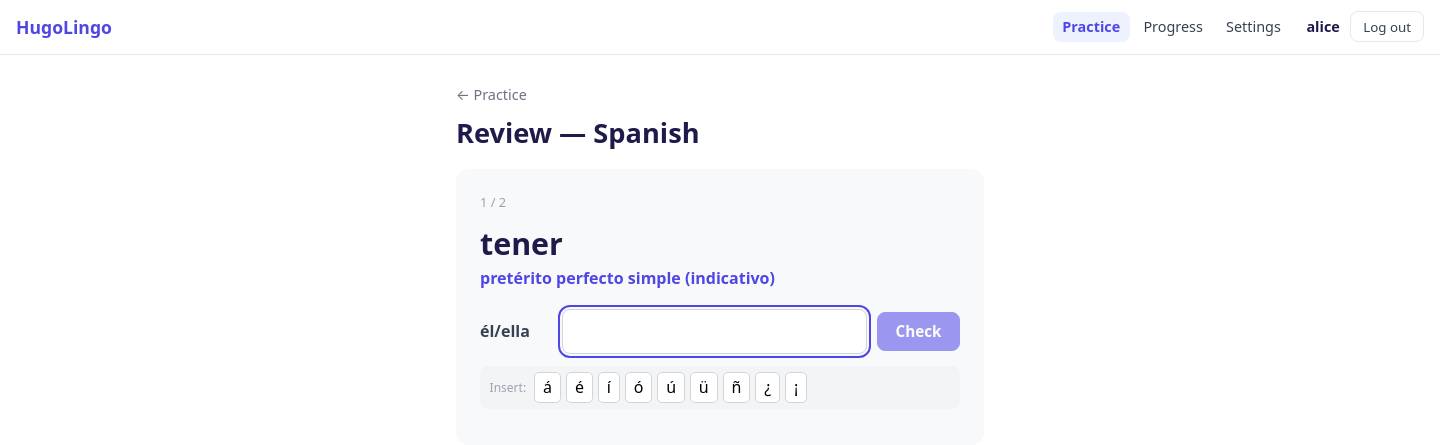
Test: review drill › grades each answer on the server and summarises the round, all from the keyboard
Check: the text "1 / 2" is shown, box x1=480 y1=193 x2=506 y2=211
Check: the text "pretérito perfecto simple (indicativo)" is shown, box x1=480 y1=267 x2=775 y2=289
In the field labelled "él/ella": point(714, 332) x1=562 y1=309 x2=867 y2=354, type "tenió"
Then press Enter
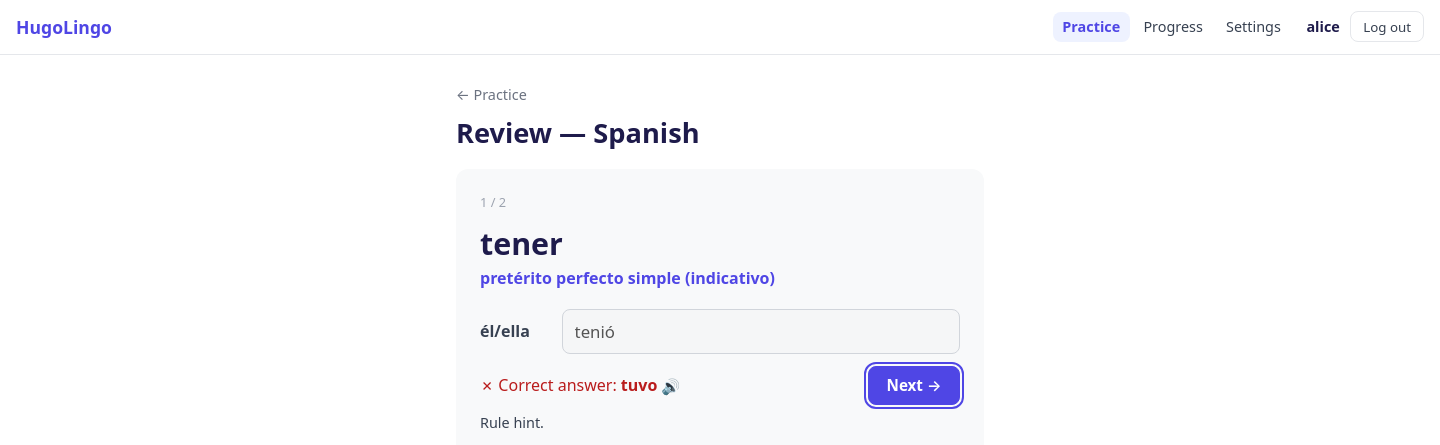
Check: the message shows "Correct answer: tuvo", box x1=480 y1=374 x2=684 y2=396
Press Enter
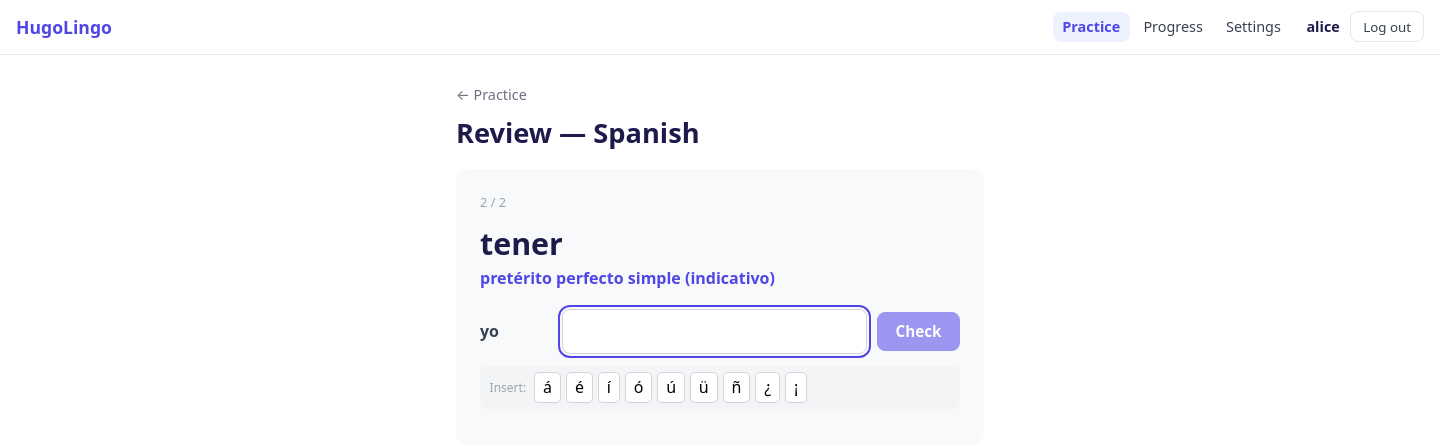
Check: the text "2 / 2" is shown, box x1=480 y1=193 x2=506 y2=211
In the field labelled "yo": point(714, 332) x1=562 y1=309 x2=867 y2=354, type "tuve"
Then press Enter
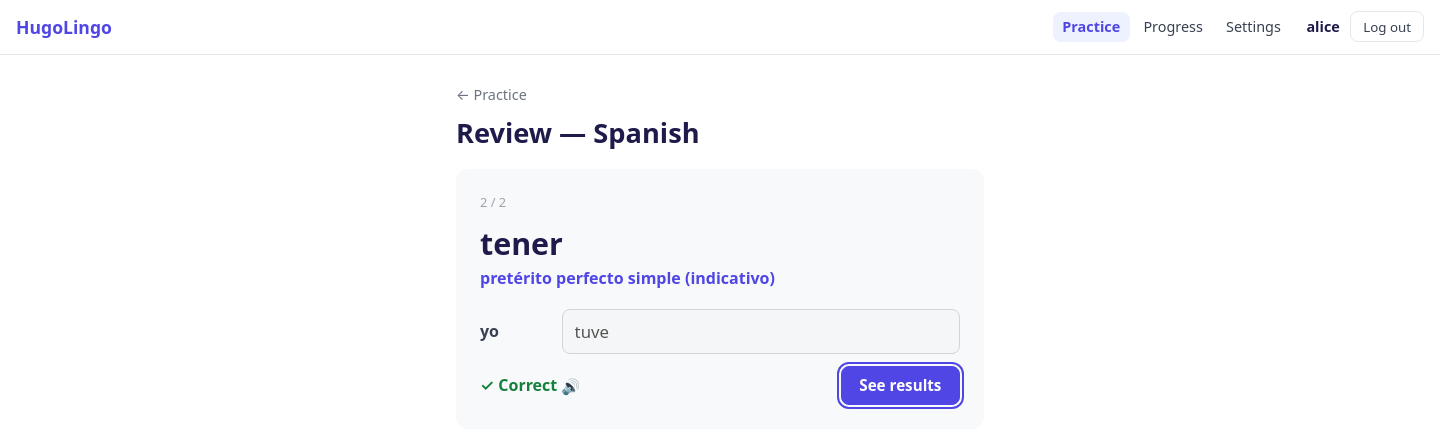
Check: the message shows "✓ Correct", box x1=480 y1=374 x2=557 y2=396
Click the button "See results": point(900, 385) x1=841 y1=366 x2=960 y2=405
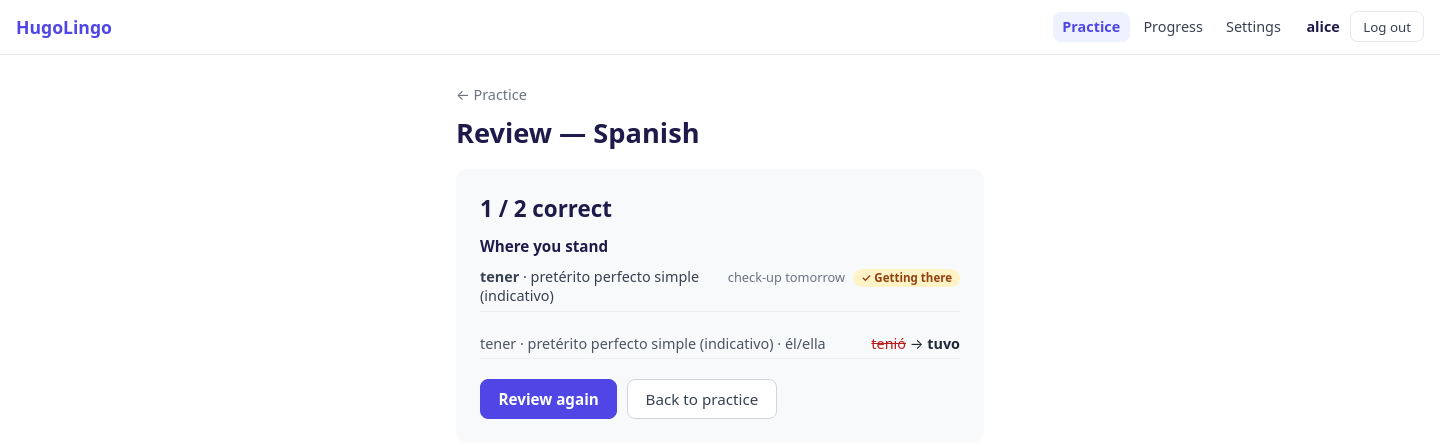
Check: the text "1 / 2 correct" is shown, box x1=480 y1=193 x2=612 y2=224
Check: the text "tenió" is shown, box x1=871 y1=334 x2=906 y2=353
Check: the text "tuvo" is shown, box x1=927 y1=334 x2=960 y2=353
